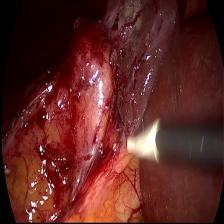Hook: (120, 116, 167, 173)
